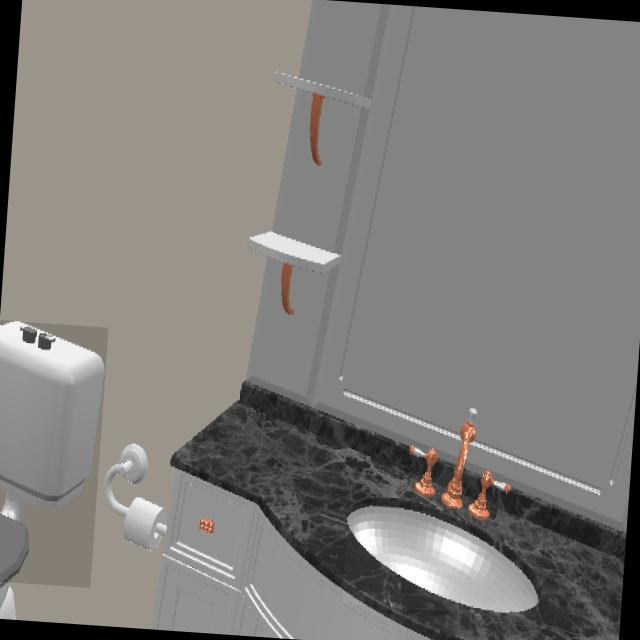toilet: (0, 321, 105, 582)
washbasin: (347, 507, 538, 615)
